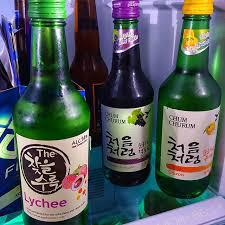soju: (103, 1, 223, 199), (12, 1, 94, 223)
